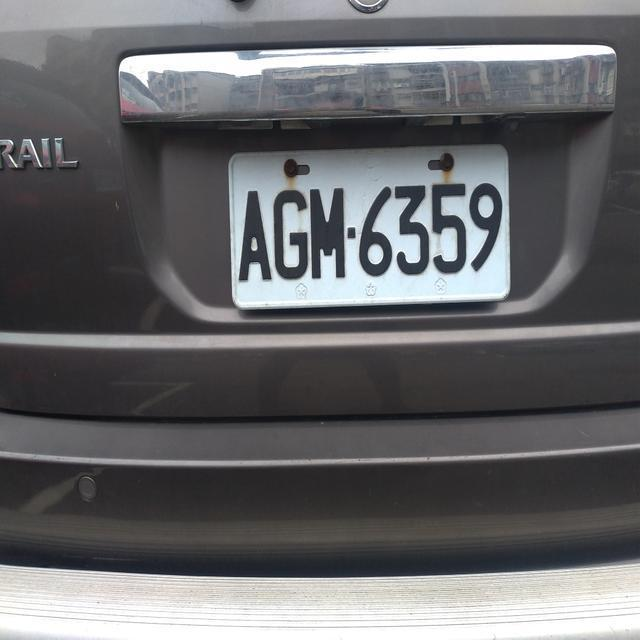plate: (226, 178, 512, 288)
